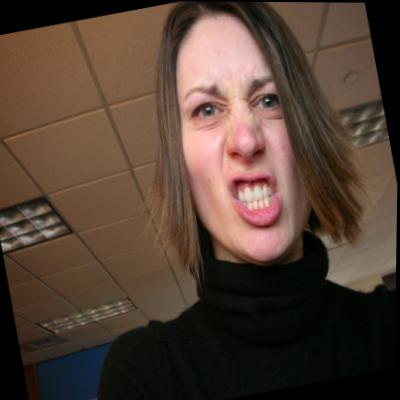angry: (145, 1, 350, 279)
